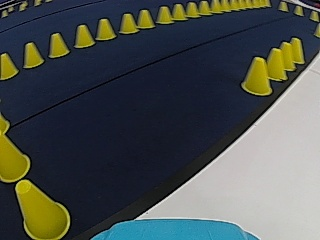cone: (15, 179, 67, 237), (0, 123, 31, 181), (241, 56, 272, 95), (265, 48, 287, 80), (23, 42, 43, 68), (48, 32, 68, 57), (278, 42, 295, 71), (75, 24, 95, 48), (0, 52, 18, 78), (96, 18, 115, 40), (289, 37, 304, 63), (137, 8, 154, 29), (120, 13, 137, 34), (157, 6, 173, 24), (172, 4, 186, 21), (186, 2, 199, 18), (199, 1, 211, 15), (211, 0, 221, 13), (278, 1, 288, 12), (293, 5, 303, 16), (309, 11, 318, 22), (221, 0, 230, 11)
